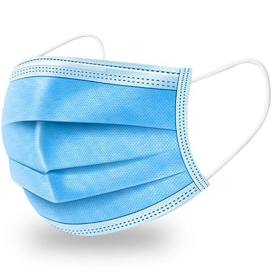FaceMask: (3, 35, 272, 236)
